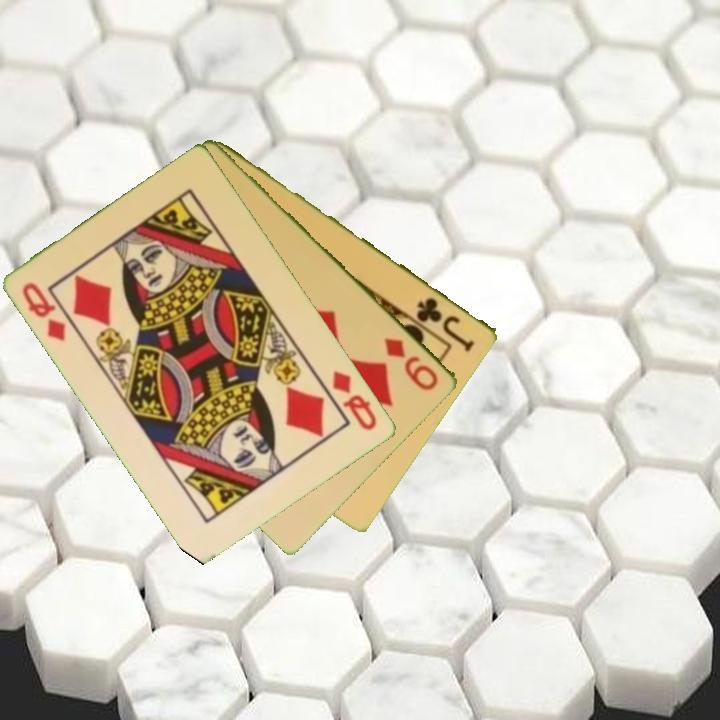9d: (381, 334, 442, 394)
Jc: (413, 293, 478, 354)
Qd: (329, 366, 380, 434), (19, 278, 70, 344)
